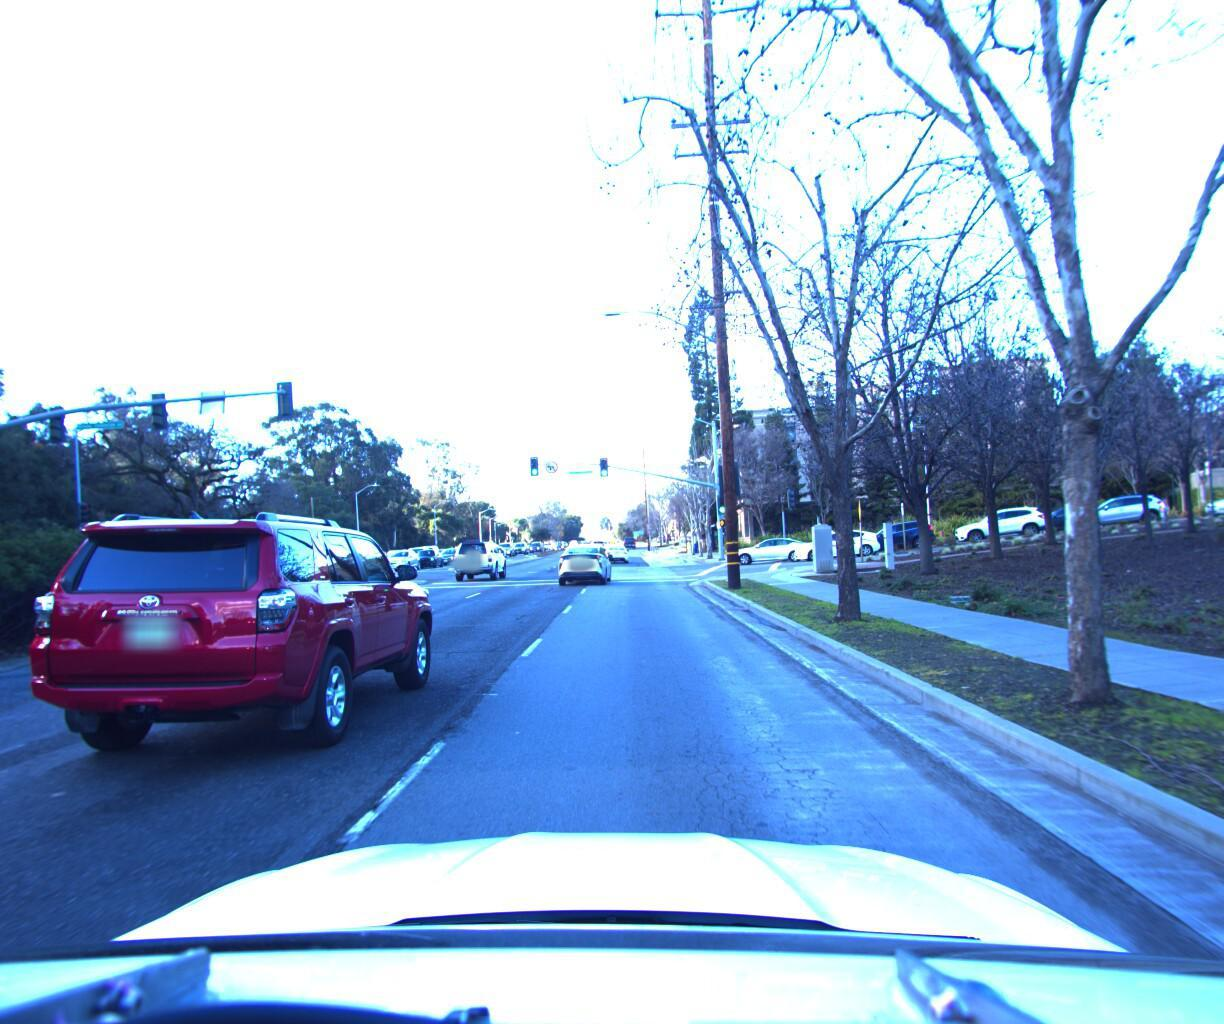car: (17, 493, 464, 786), (1056, 484, 1161, 527), (945, 498, 1050, 539), (846, 513, 936, 551), (788, 521, 884, 556), (445, 532, 516, 580), (723, 528, 813, 560), (553, 539, 615, 586), (1187, 475, 1224, 514), (376, 543, 424, 569), (410, 542, 446, 565), (600, 533, 629, 559)
